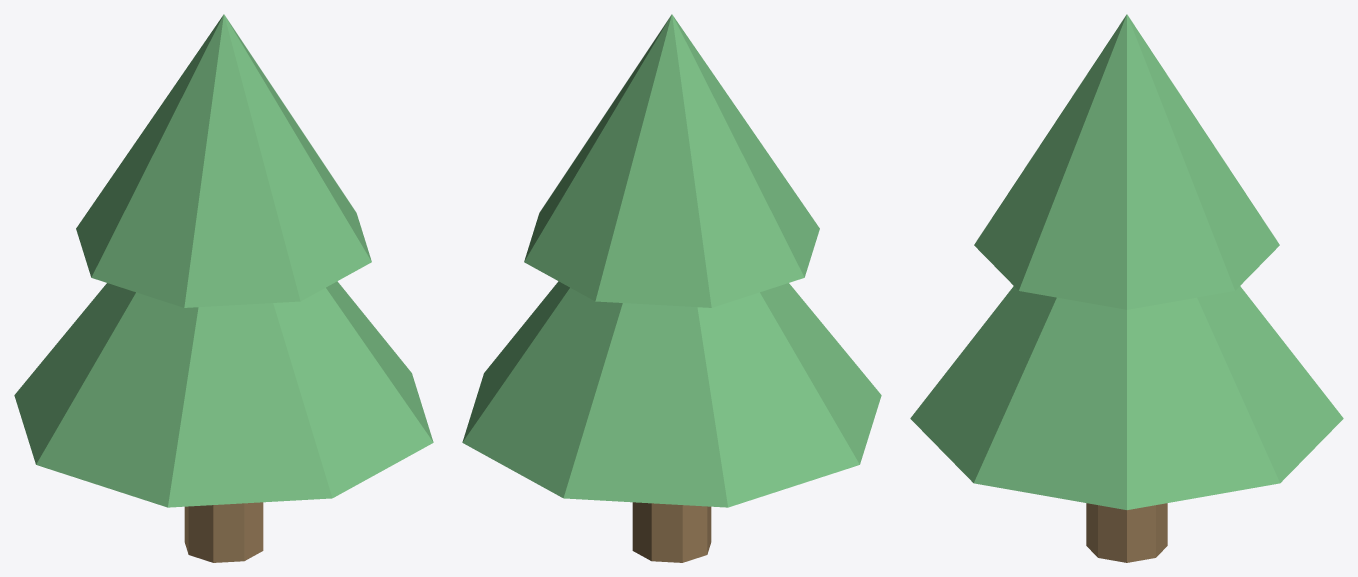
Rendered from tree.glb.
The picture shows the model from 3 angles, left to right: view 1: azimuth 30°, elevation 25°; view 2: azimuth 150°, elevation 25°; view 3: azimuth 270°, elevation 25°; orthographic projection.
Visible parts, largest first — view 1: Tree; view 2: Tree; view 3: Tree.
Boxes of the visible parts, <box> form: Tree: <box>14,14,433,562</box>; Tree: <box>462,14,881,562</box>; Tree: <box>910,14,1343,562</box>.
Bounding box in the file's own units: 1.7 × 2.3 × 1.7.
